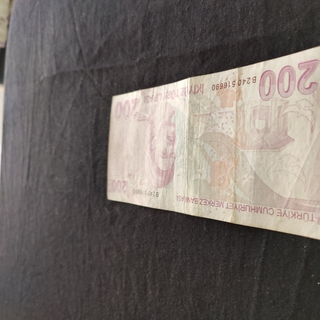200TLBack: (107, 42, 320, 242)
